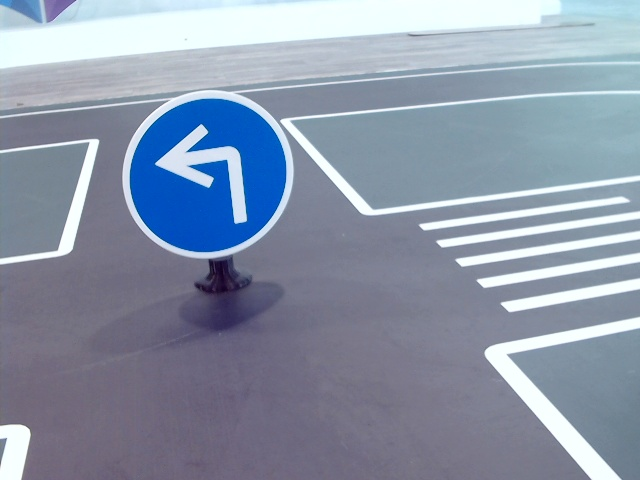turn_left: (155, 124, 248, 225)
